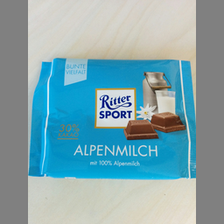chocolate: (29, 58, 195, 179)
